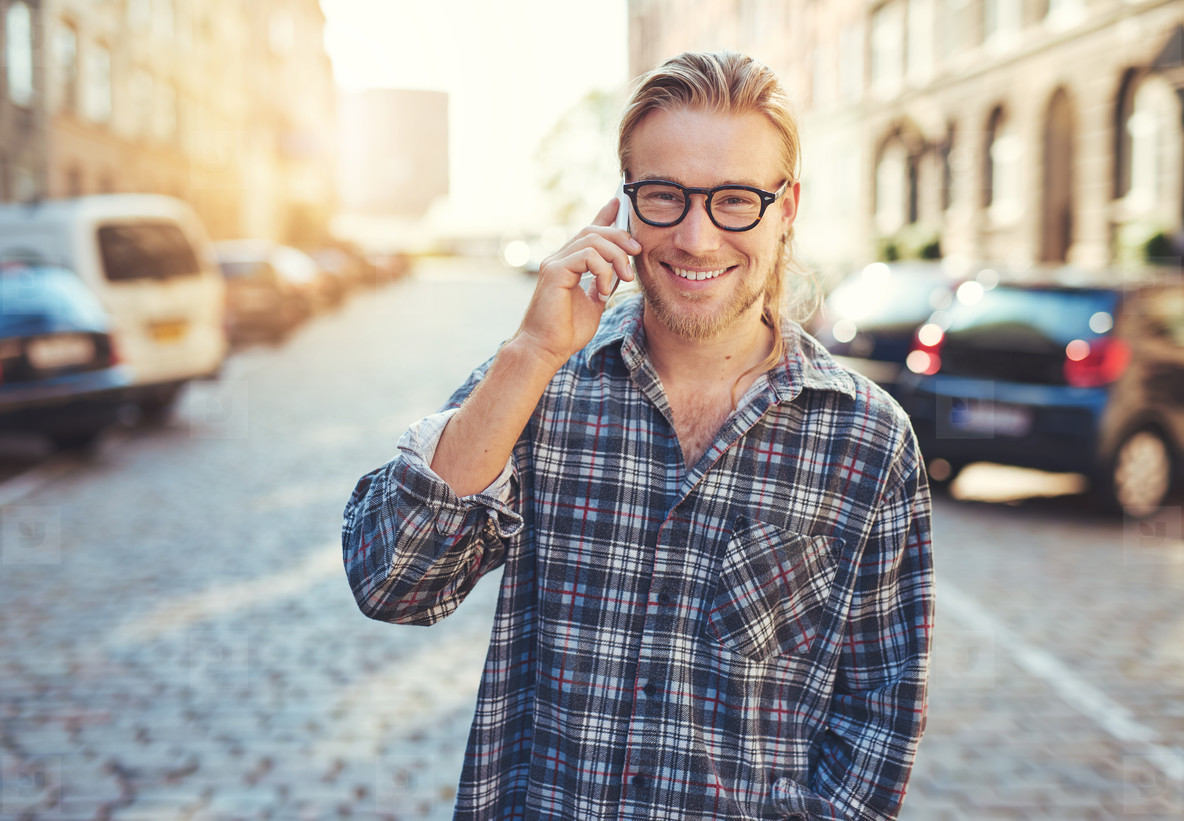phone: (602, 170, 641, 285)
talk: (520, 147, 776, 368)
